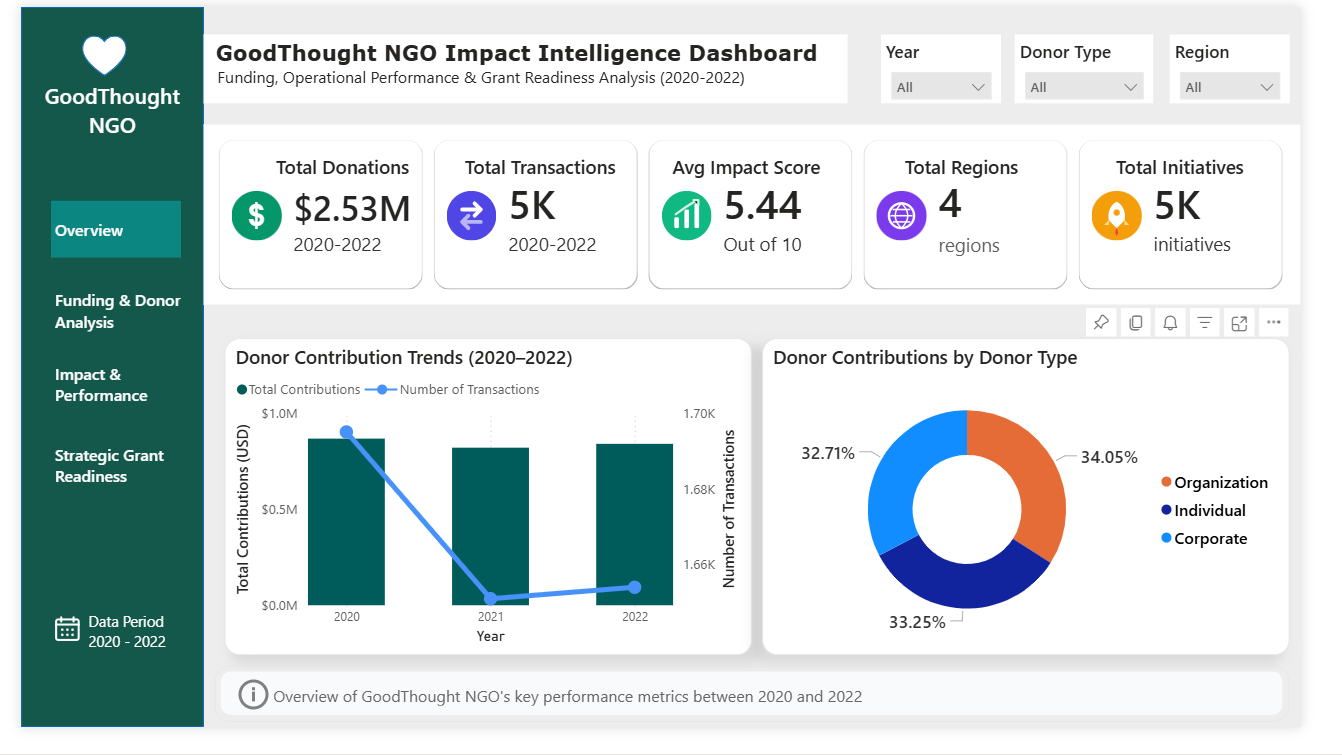

The dashboard page shown, as its layout file describes it:
{"tool":"powerbi","page":{"name":"Overview","canvas":[1280,720],"ordinal":0},"visuals":[{"type":"shape","box":[0,0,182.9,720],"z":0},{"type":"shape","box":[61.4,28.2,44.3,40],"z":1000},{"type":"textbox","box":[0,68.2,182.9,71.4],"z":2000},{"type":"textbox","box":[182.9,27.1,644.3,68.6],"z":3000},{"type":"slicer","fields":{"Values":["public donations.Year"]},"box":[860,27.1,120,68.6],"z":4000},{"type":"slicer","fields":{"Values":["public donors.donor_type"]},"box":[994.3,27.1,138.6,68.6],"z":5000},{"type":"slicer","fields":{"Values":["public assignments.region"]},"box":[1148.6,27.1,120,68.6],"z":6000},{"type":"cardVisual","fields":{"Data":["public donations.Total Donations","public donations.Total Transactions","public assignments.Avg Impact Score","public assignments.Total Regions","public assignments.Total Initiatives"]},"box":[182.9,117.1,1097.1,180],"z":7000},{"type":"textbox","box":[250,142.9,151.4,41.4],"z":8000},{"type":"textbox","box":[438.6,142.9,171.4,41.4],"z":9000},{"type":"textbox","box":[645.7,142.9,171.4,41.4],"z":10000},{"type":"textbox","box":[878.6,142.9,140,41.4],"z":11000},{"type":"textbox","box":[1090,142.9,151.4,41.4],"z":12000},{"type":"lineClusteredColumnComboChart","title":"Donor Contribution Trends (2020–2022)","fields":{"Category":["public donations.Year"],"Y":["public donations.Total Contributions"],"Y2":["public donations.Number of Transactions"]},"box":[204.3,331.4,527.1,317.1],"z":13000},{"type":"donutChart","title":"Donor Contributions by Donor Type","fields":{"Y":["Sum(public donations.amount)"],"Category":["public donors.donor_type"]},"box":[741.4,331.4,527.1,317.1],"z":14000},{"type":"actionButton","box":[30,194.3,130,57.1],"z":15000},{"type":"actionButton","box":[30,274.5,135.7,55.7],"z":16000},{"type":"actionButton","box":[30,351.7,130,51.4],"z":17000},{"type":"actionButton","box":[30,424.5,140,65.7],"z":18000},{"type":"textbox","box":[62.9,598.6,90,50],"z":19000},{"type":"image","box":[30,601.4,32.9,41.4],"z":20000},{"type":"shape","box":[194.3,658.6,1074.3,55.7],"z":21000},{"type":"actionButton","box":[212.9,667.1,632.9,40],"z":22000}]}

Visuals, with their boxes on the page's 1280x720 design canvas (x1, y1, x2, y2). These are canvas units, not pixel positions in the 1342x755 screenshot, which may show the page scaled, cropped or inside an application window:
shape: rect(0, 0, 183, 720)
shape: rect(61, 28, 106, 68)
textbox: rect(0, 68, 183, 140)
textbox: rect(183, 27, 827, 96)
slicer - public donations.Year: rect(860, 27, 980, 96)
slicer - public donors.donor_type: rect(994, 27, 1133, 96)
slicer - public assignments.region: rect(1149, 27, 1269, 96)
cardVisual - public donations.Total Donations x public donations.Total Transactions: rect(183, 117, 1280, 297)
textbox: rect(250, 143, 401, 184)
textbox: rect(439, 143, 610, 184)
textbox: rect(646, 143, 817, 184)
textbox: rect(879, 143, 1019, 184)
textbox: rect(1090, 143, 1241, 184)
"Donor Contribution Trends (2020–2022)" lineClusteredColumnComboChart: rect(204, 331, 731, 648)
"Donor Contributions by Donor Type" donutChart: rect(741, 331, 1268, 648)
actionButton: rect(30, 194, 160, 251)
actionButton: rect(30, 274, 166, 330)
actionButton: rect(30, 352, 160, 403)
actionButton: rect(30, 424, 170, 490)
textbox: rect(63, 599, 153, 649)
image: rect(30, 601, 63, 643)
shape: rect(194, 659, 1269, 714)
actionButton: rect(213, 667, 846, 707)
